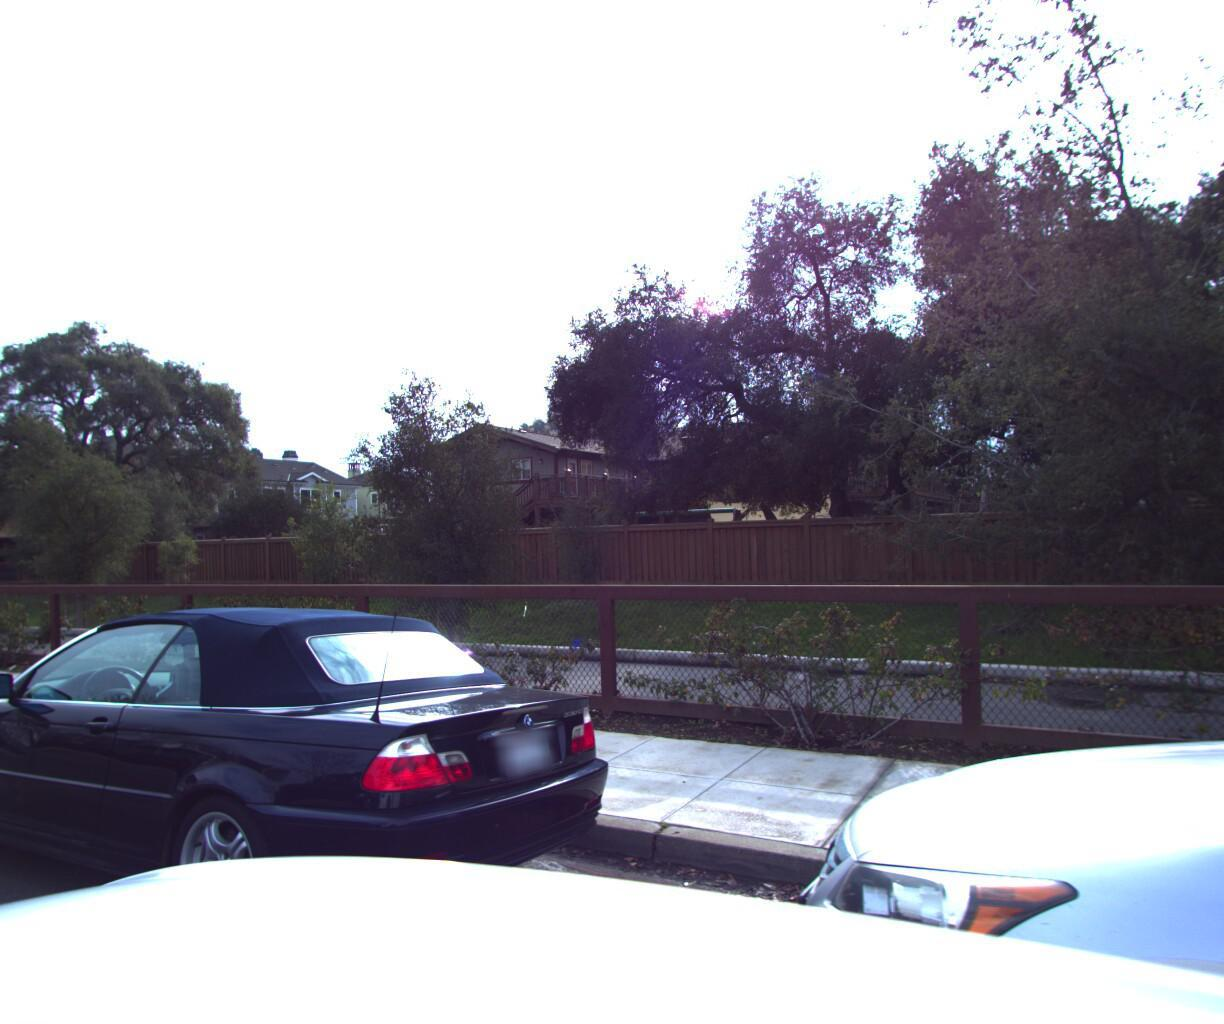car: (0, 584, 652, 1024)
